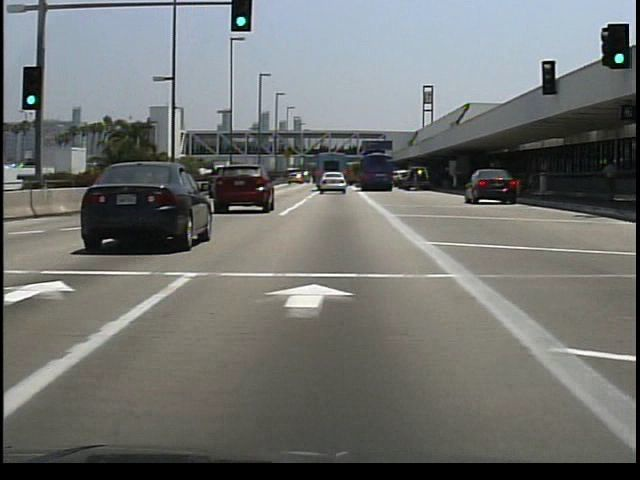person: (597, 157, 619, 209)
